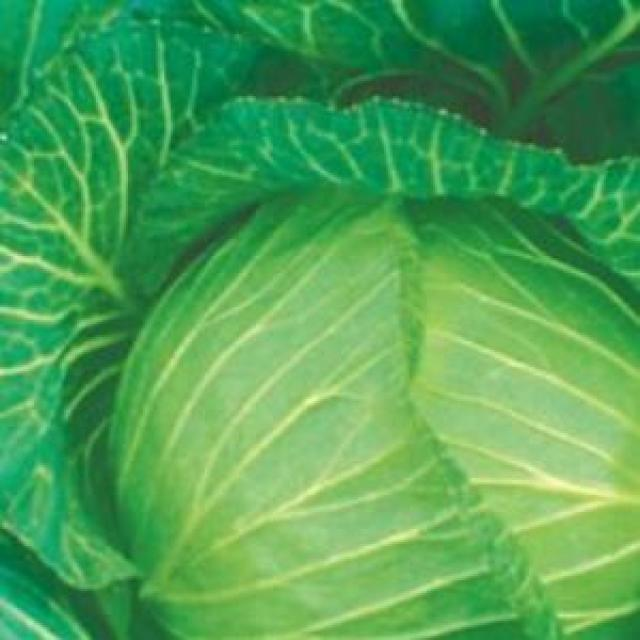cabbage: (104, 185, 640, 640)
